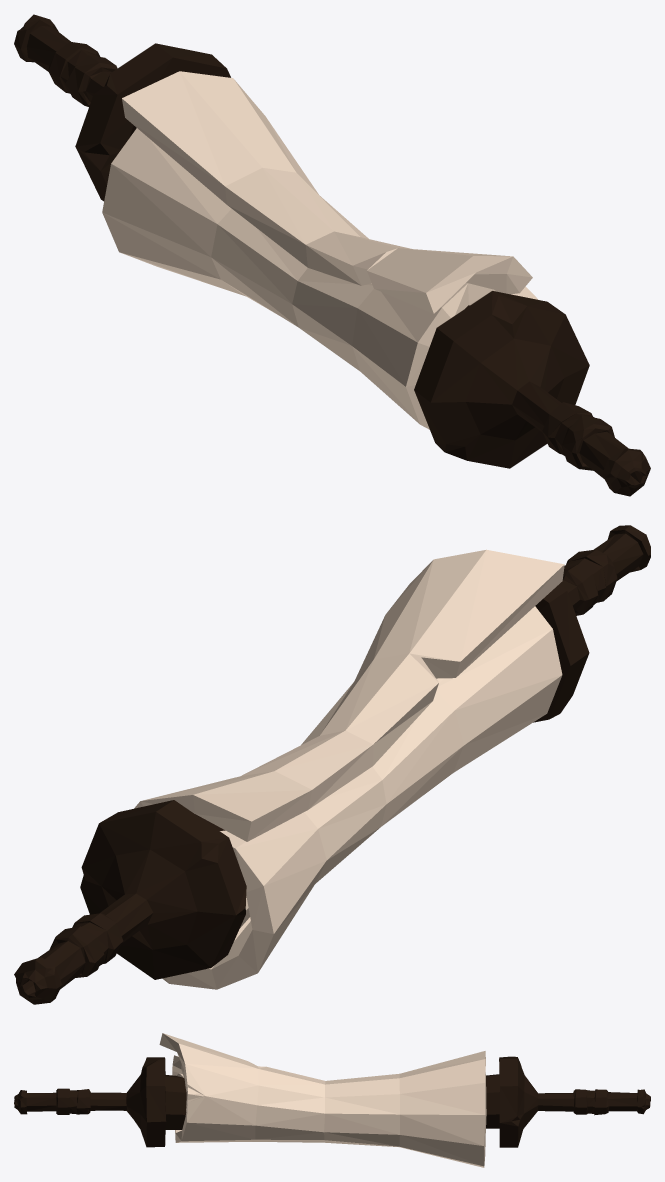
The model's file is SFFA_Scroll_002.fbx.
3 renders of one model, top to bottom at view 1: azimuth 30°, elevation 25°; view 2: azimuth 150°, elevation 25°; view 3: azimuth 270°, elevation 25°, orthographic. The views are drawn at different scales.
Visible parts, largest first — view 1: SFFA_Scroll_002; view 2: SFFA_Scroll_002; view 3: SFFA_Scroll_002.
Boxes of the visible parts, bbox=[...] form: SFFA_Scroll_002: bbox=[14, 14, 650, 496]; SFFA_Scroll_002: bbox=[14, 525, 650, 1004]; SFFA_Scroll_002: bbox=[14, 1033, 650, 1167].
Size of the model in its own units: 23.54 by 29.29 by 143.
